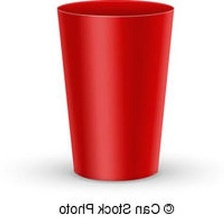glass: (52, 0, 177, 186)
